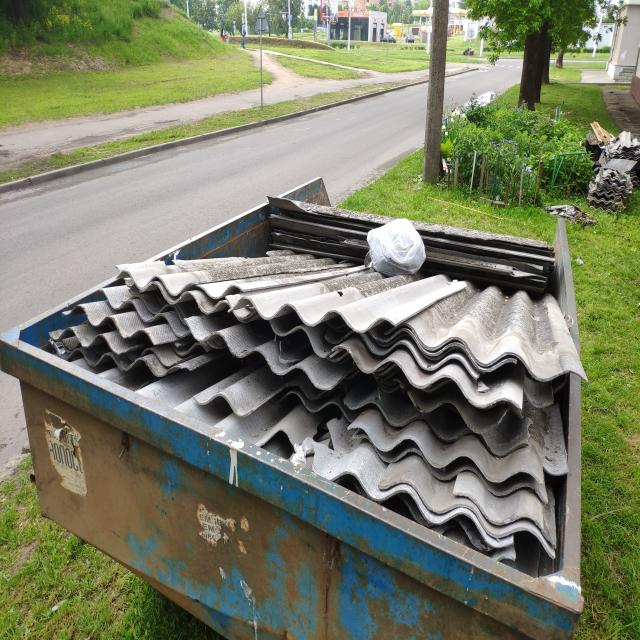entulho: (105, 251, 588, 416), (319, 391, 562, 568), (417, 234, 557, 289), (268, 207, 380, 257), (362, 218, 424, 274), (588, 121, 640, 170), (583, 167, 634, 212), (550, 201, 598, 234)
